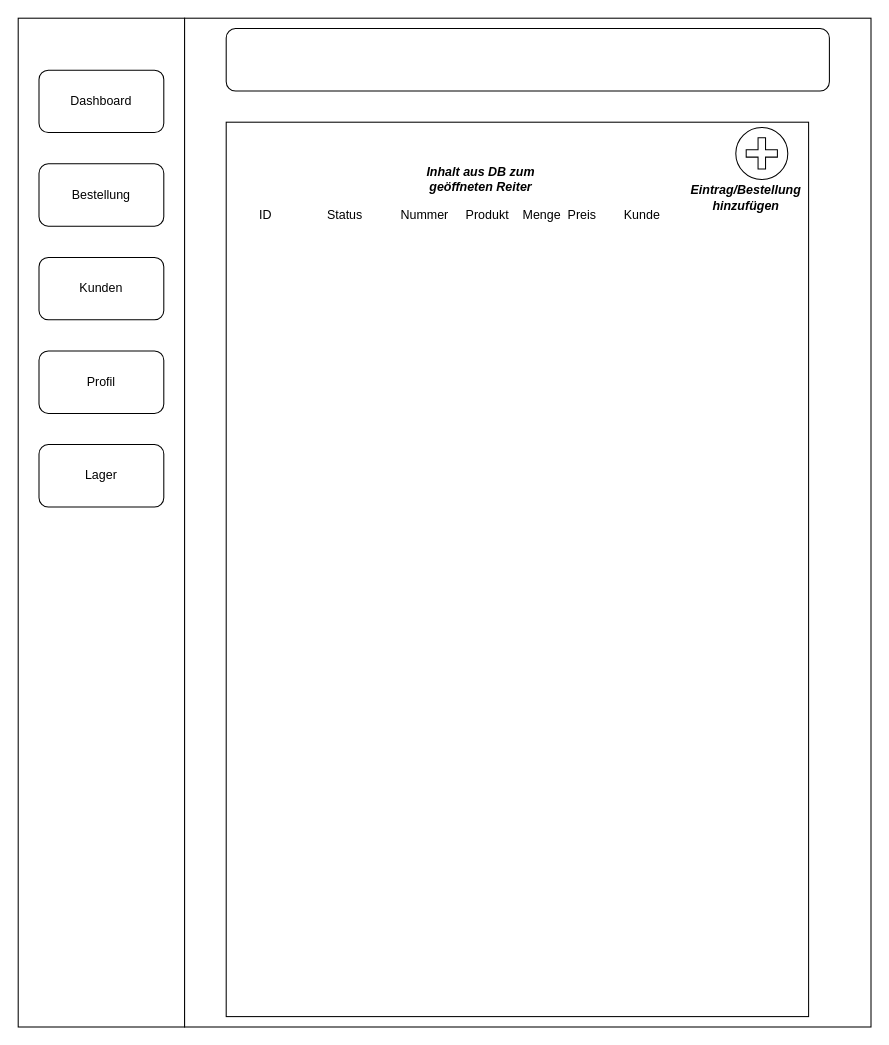
Image size: 889x1045. Some labels were removed from this diagram. The shapes that lost their labels are listed below. From the top down, each one's box as (x1, y1, x2, y2) in pixels, then its label:
(225, 28, 829, 91): Name des Momentan geöffneten Reiter z.B. Bestellungen
(17, 17, 185, 1027): Sidepanel Navbar
